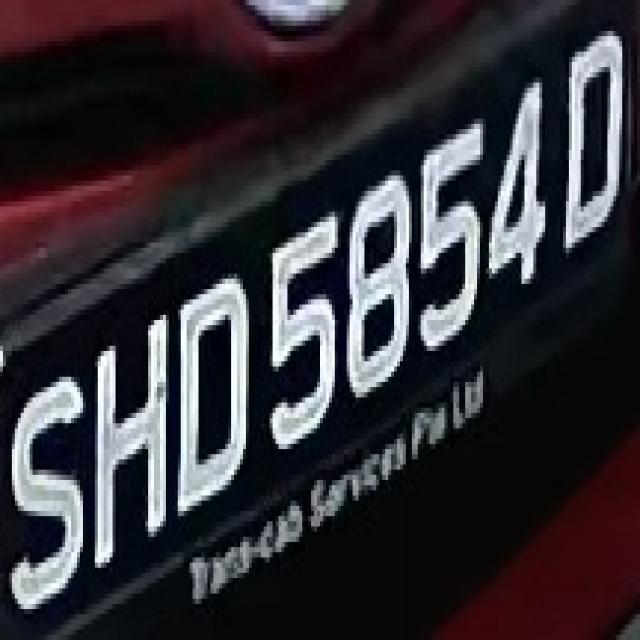4: (474, 52, 557, 304)
5: (258, 201, 346, 449), (409, 119, 492, 356)
8: (332, 170, 421, 413)
D: (163, 264, 258, 522), (554, 21, 628, 258)
H: (86, 300, 175, 562)
S: (6, 367, 95, 614)
